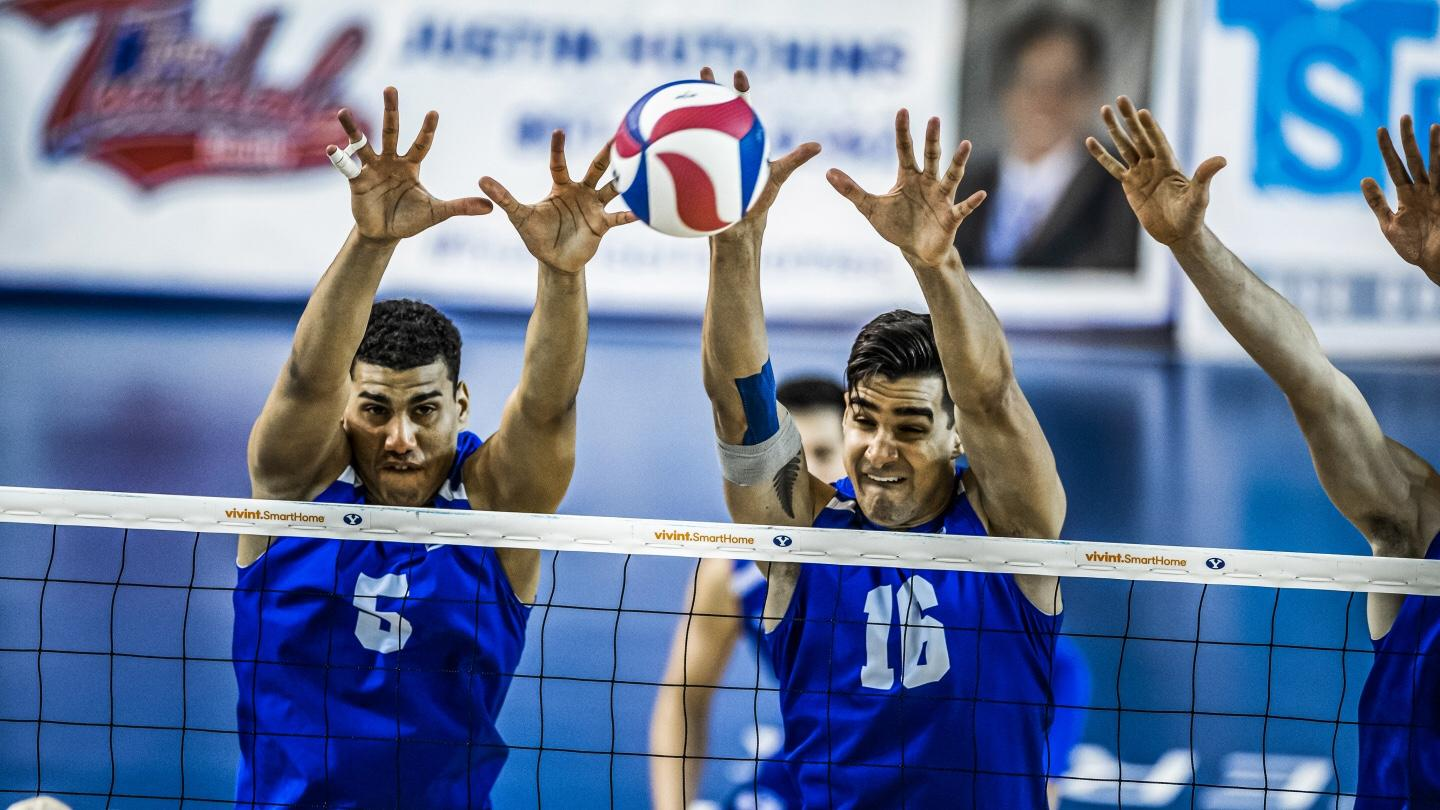ballon_volley: (609, 77, 770, 240)
